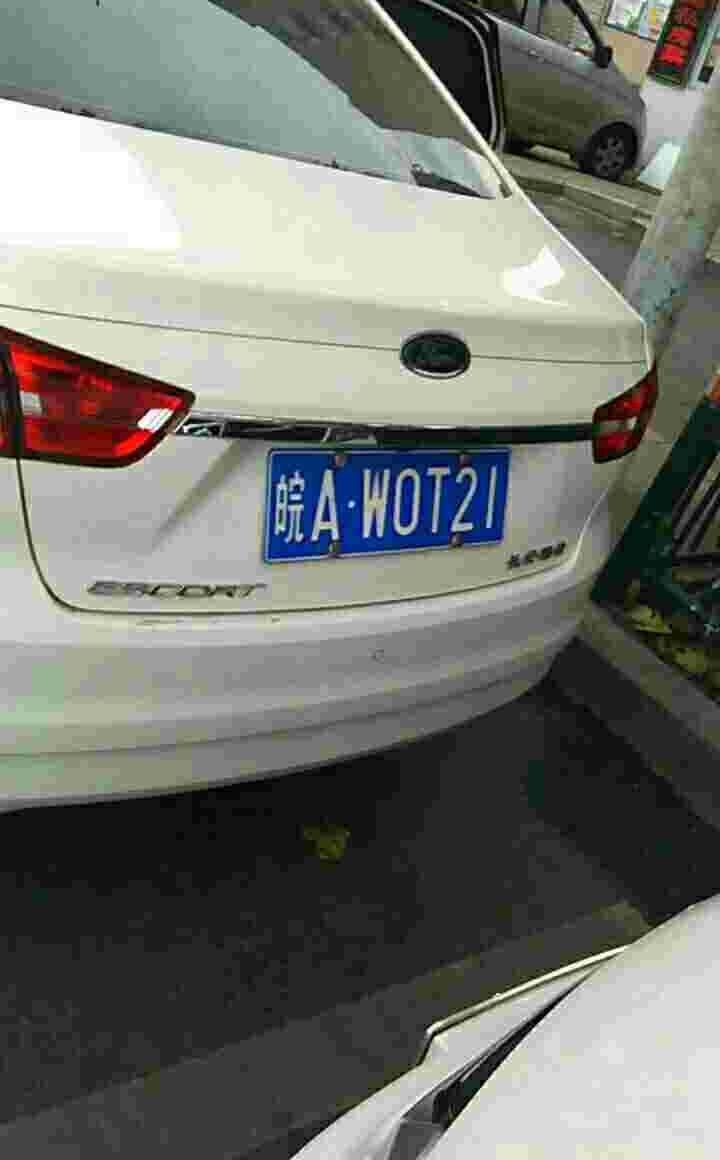license_plate: (272, 443, 524, 553)
